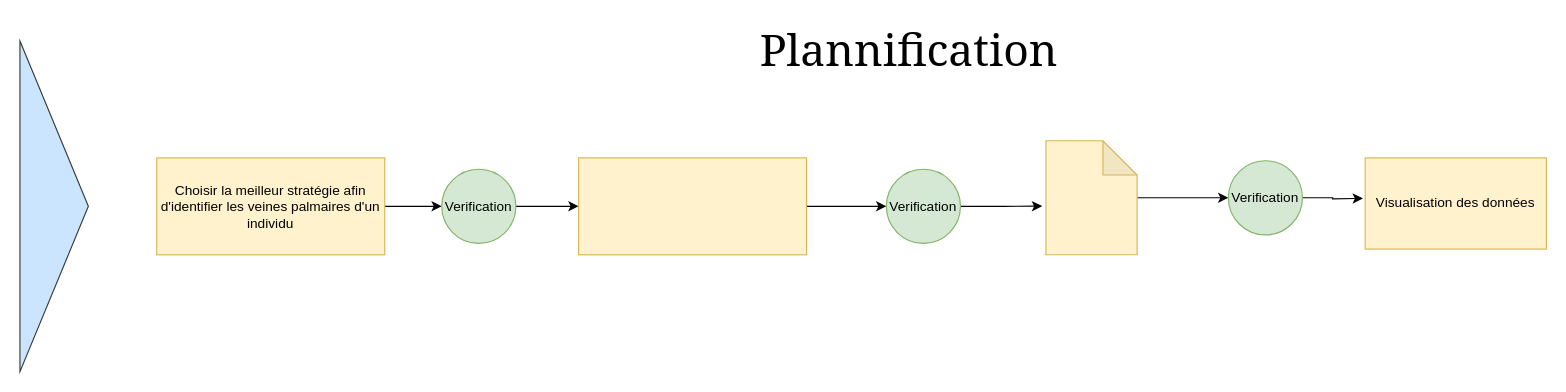
The diagram is 1566 pixels wide and 392 high, and some of its shapes have lost their labels. Here are the shapes that lost their labels. From the top down, the box of each, then its label:
(577, 157, 807, 255): Déterminer la bonne architecture/modèle pour notre réseau de neurone
(1045, 140, 1137, 255): Mise en place
